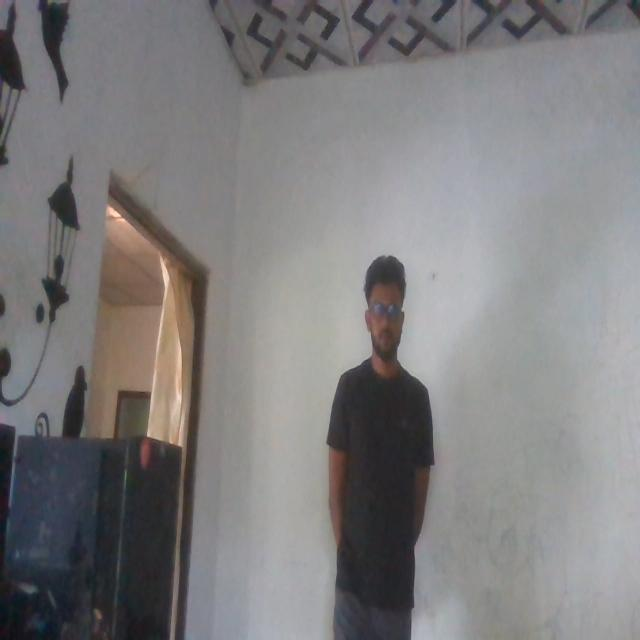Person: (327, 253, 431, 640)
